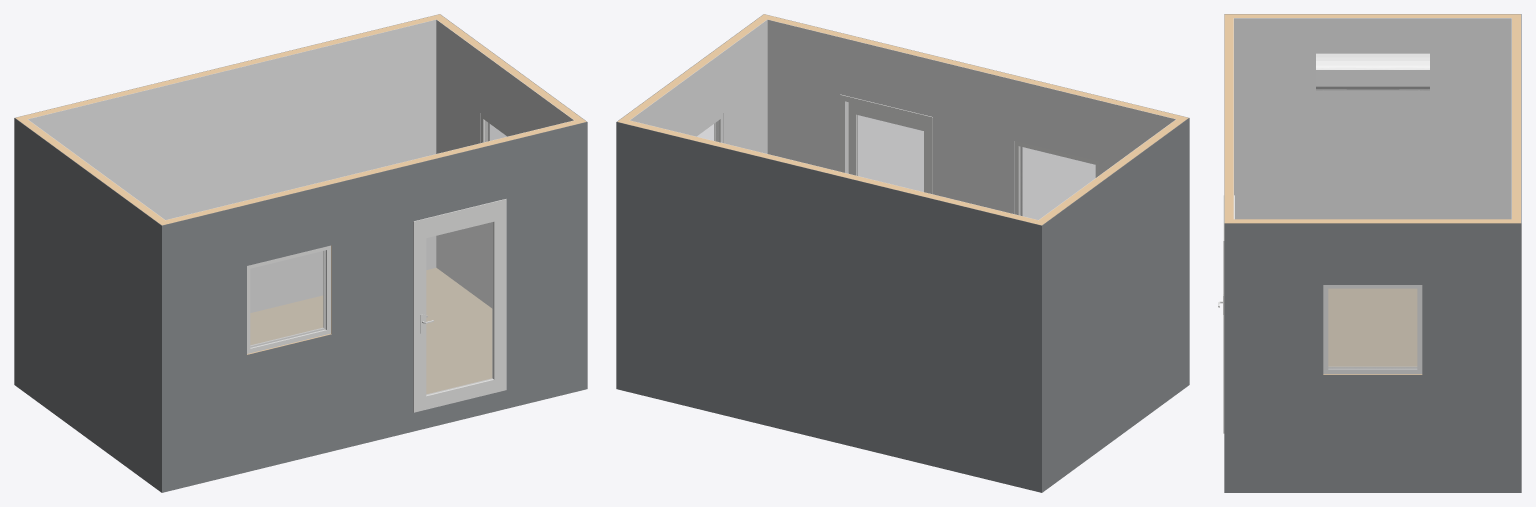
Rendered from Šiauliai_(3,0x5,0m)_R00.fbx.
The picture shows the model from 3 angles, left to right: view 1: azimuth 30°, elevation 25°; view 2: azimuth 150°, elevation 25°; view 3: azimuth 270°, elevation 25°; orthographic projection.
Parts seen in each view (by area): view 1: IfcWall/Part:2319783, IfcWall/Part:2319788, IfcWall/Part:2319780, IfcDoor/Simple_vitree_-_03:1000x2100:2318724, IfcWall/Part:2319785, IfcSlab/Part:2319774, IfcWindow/Aluprof_MB-86-SI_E_Alu_Window-1sash-FIX_ENG_R-000, IfcWall/Part:2319784, IfcWall/Part:2319790, IfcWall/Part:2319787, IfcWall/Part:2319781, IfcWall/Part:2319789; view 2: IfcWall/Part:2319789, IfcWall/Part:2319780, IfcWall/Part:2319782, IfcWall/Part:2319785, IfcDoor/Simple_vitree_-_03:1000x2100:2318724, IfcWindow/Aluprof_MB-86-SI_E_Alu_Window-1sash-FIX_ENG_R-000, IfcWall/Part:2319790, IfcWall/Part:2319784, IfcWall/Part:2319787, IfcWall/Part:2319781, IfcWall/Part:2319783; view 3: IfcWall/Part:2319786, IfcWall/Part:2319779, IfcWindow/Aluprof_MB-86-SI_E_Alu_Window-1sash-FIX_ENG_R-0004, IfcSlab/Part:2319774, IfcEnergyConversionDevice/Fujitsu General_ASUA30-36TLAV2:ASU, IfcWall/Part:2319784, IfcWall/Part:2319790, IfcWall/Part:2319787, IfcWall/Part:2319781, IfcDoor/Simple_vitree_-_03:1000x2100:2318724, IfcWall/Part:2319789.
Boxes of the visible parts, x1,y1,x2,y2 form: IfcWall/Part:2319783: (161,122,586,492); IfcWall/Part:2319788: (28,19,436,312); IfcWall/Part:2319780: (14,118,161,492); IfcDoor/Simple_vitree_-_03:1000x2100:2318724: (413,199,506,412); IfcWall/Part:2319785: (436,19,573,307); IfcSlab/Part:2319774: (250,268,492,393); IfcWindow/Aluprof_MB-86-SI_E_Alu_Window-1sash-FIX_ENG_R-000: (247,245,331,353); IfcWall/Part:2319784: (158,120,578,354); IfcWall/Part:2319790: (15,14,443,120); IfcWall/Part:2319787: (437,17,586,123); IfcWall/Part:2319781: (20,119,164,221); IfcWall/Part:2319789: (14,14,439,384); IfcWall/Part:2319789: (616,122,1042,492); IfcWall/Part:2319780: (1042,118,1189,492); IfcWall/Part:2319782: (767,19,1175,213); IfcWall/Part:2319785: (630,19,767,153); IfcDoor/Simple_vitree_-_03:1000x2100:2318724: (840,94,932,194); IfcWindow/Aluprof_MB-86-SI_E_Alu_Window-1sash-FIX_ENG_R-000: (1014,141,1099,219); IfcWall/Part:2319790: (617,118,1045,225); IfcWall/Part:2319784: (767,16,1188,120); IfcWall/Part:2319787: (622,14,771,120); IfcWall/Part:2319781: (1039,119,1183,221); IfcWall/Part:2319783: (765,14,1189,384); IfcWall/Part:2319786: (1224,223,1520,492); IfcWall/Part:2319779: (1234,18,1511,219); IfcWindow/Aluprof_MB-86-SI_E_Alu_Window-1sash-FIX_ENG_R-0004: (1323,285,1422,373); IfcSlab/Part:2319774: (1328,288,1417,366); IfcEnergyConversionDevice/Fujitsu General_ASUA30-36TLAV2:ASU: (1316,53,1429,90); IfcWall/Part:2319784: (1224,14,1233,219); IfcWall/Part:2319790: (1512,14,1520,223); IfcWall/Part:2319787: (1224,219,1511,374); IfcWall/Part:2319781: (1233,14,1511,17); IfcDoor/Simple_vitree_-_03:1000x2100:2318724: (1218,195,1234,433); IfcWall/Part:2319789: (1521,14,1521,492).
Size of the model in its own units: 500 by 300 by 306.
